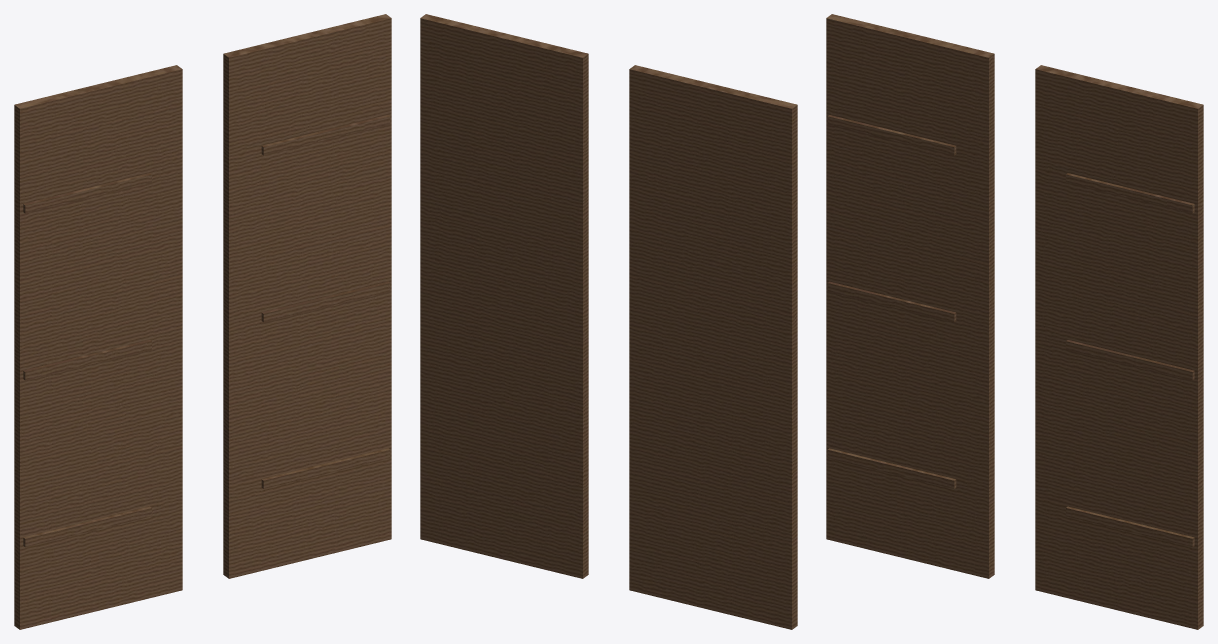
File: door.glb
3 renders of one model, left to right at view 1: azimuth 30°, elevation 25°; view 2: azimuth 150°, elevation 25°; view 3: azimuth 330°, elevation 25°, orthographic.
Visible parts, largest first — view 1: B_door_l, B_door_r; view 2: B_door_l, B_door_r; view 3: B_door_l, B_door_r.
Part boxes in pixels (left/top/right/bottom): B_door_l: left=14, top=65, right=182, bottom=629; B_door_r: left=223, top=14, right=391, bottom=578; B_door_l: left=629, top=65, right=797, bottom=629; B_door_r: left=420, top=14, right=588, bottom=578; B_door_l: left=826, top=14, right=994, bottom=578; B_door_r: left=1035, top=65, right=1203, bottom=629.
Size of the model in its own units: 5.6 by 7.5 by 0.2.
Materials: 2 (2 with a texture image).
